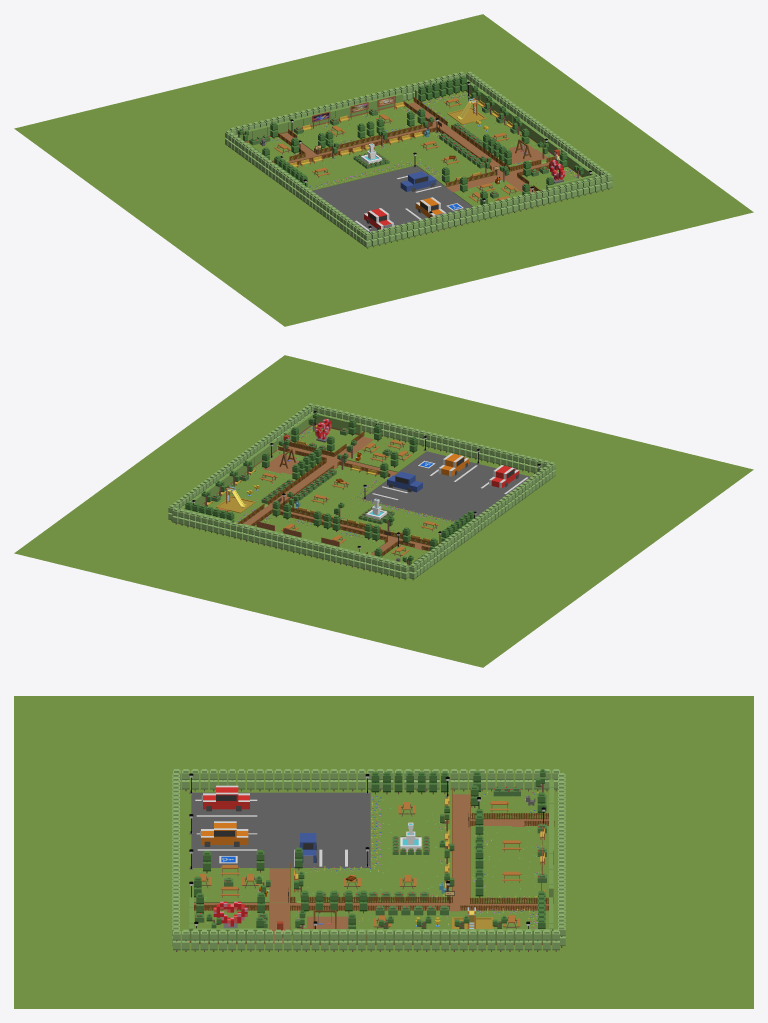
The model's file is portfolio.glb.
The picture shows the model from 3 angles, top to bottom: view 1: azimuth 30°, elevation 25°; view 2: azimuth 150°, elevation 25°; view 3: azimuth 270°, elevation 25°; orthographic projection. The views are drawn at different scales.
Visible parts, largest first — view 1: Plane.003, Tree.007; view 2: Plane.003, Tree.007; view 3: Plane.003, Tree.007.
Boxes of the visible parts, box(x1,y1,x2,y2) form: Plane.003: box(14, 14, 753, 326); Tree.007: box(225, 71, 612, 248); Plane.003: box(14, 355, 753, 667); Tree.007: box(168, 403, 555, 580); Plane.003: box(14, 696, 753, 1008); Tree.007: box(172, 769, 565, 951).
Size of what is drawn, in the model's own units: 616 by 29.85 by 616.
81 materials, 3 textured.
